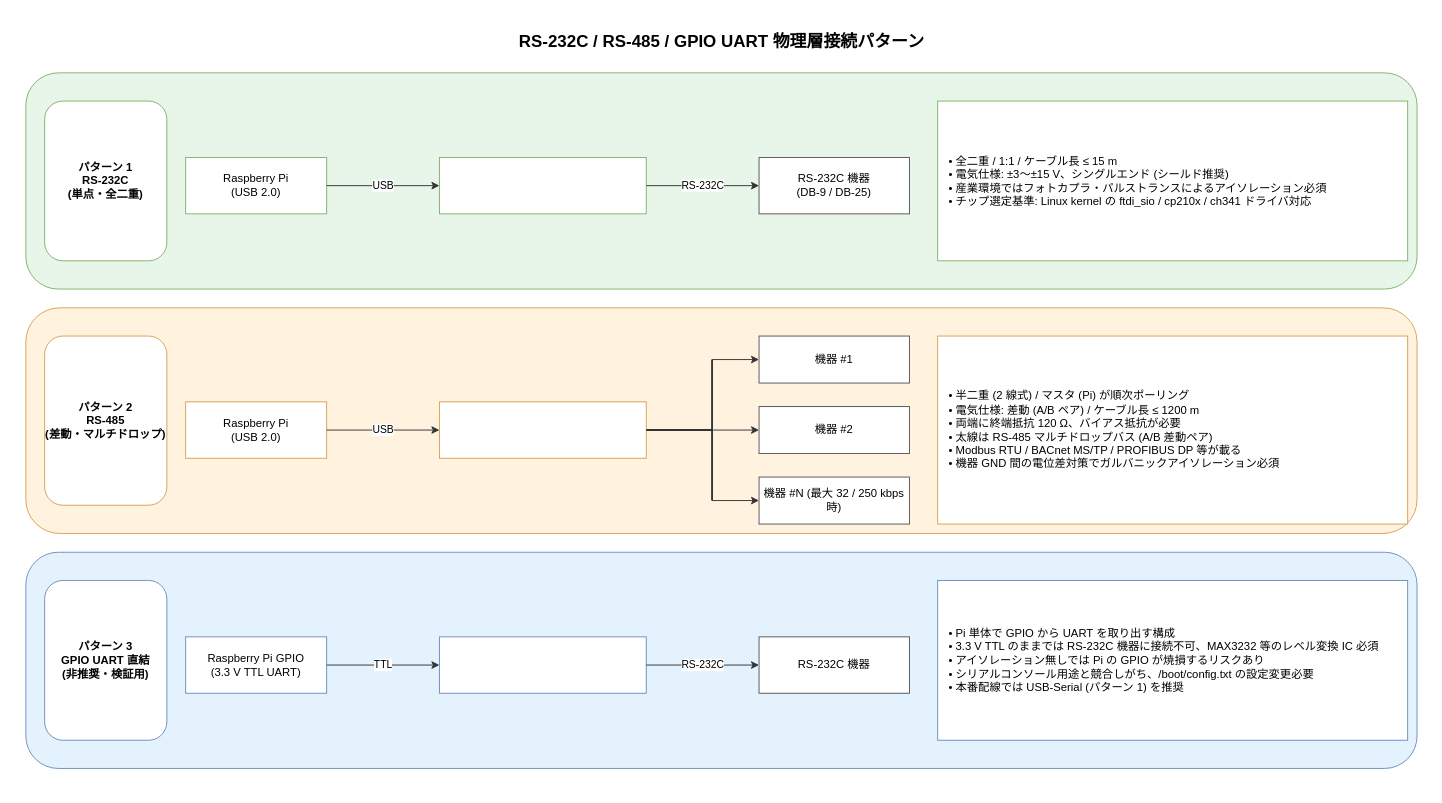
Image size: 1442x803. Some labels were removed from this diagram. The shapes that lost their labels are listed below. From the top down, each one's centre as x and y in pixels, then its label:
At point 542,185: "USB-Serial 変換 (FTDI / SiLabs / CH340)".
At point 542,429: "USB-RS485 変換 (アイソレータ + 終端抵抗)".
At point 542,664: "MAX3232 IC (3.3 V TTL ⇔ ±12 V 変換)".
